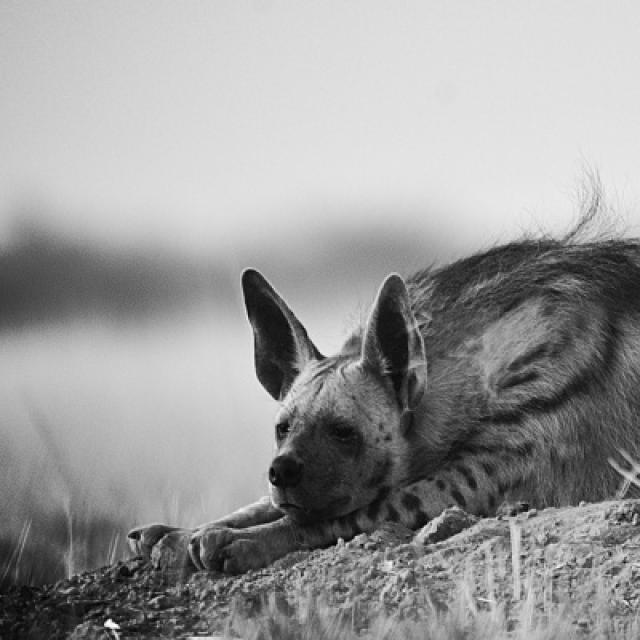hyena: (195, 240, 638, 576)
